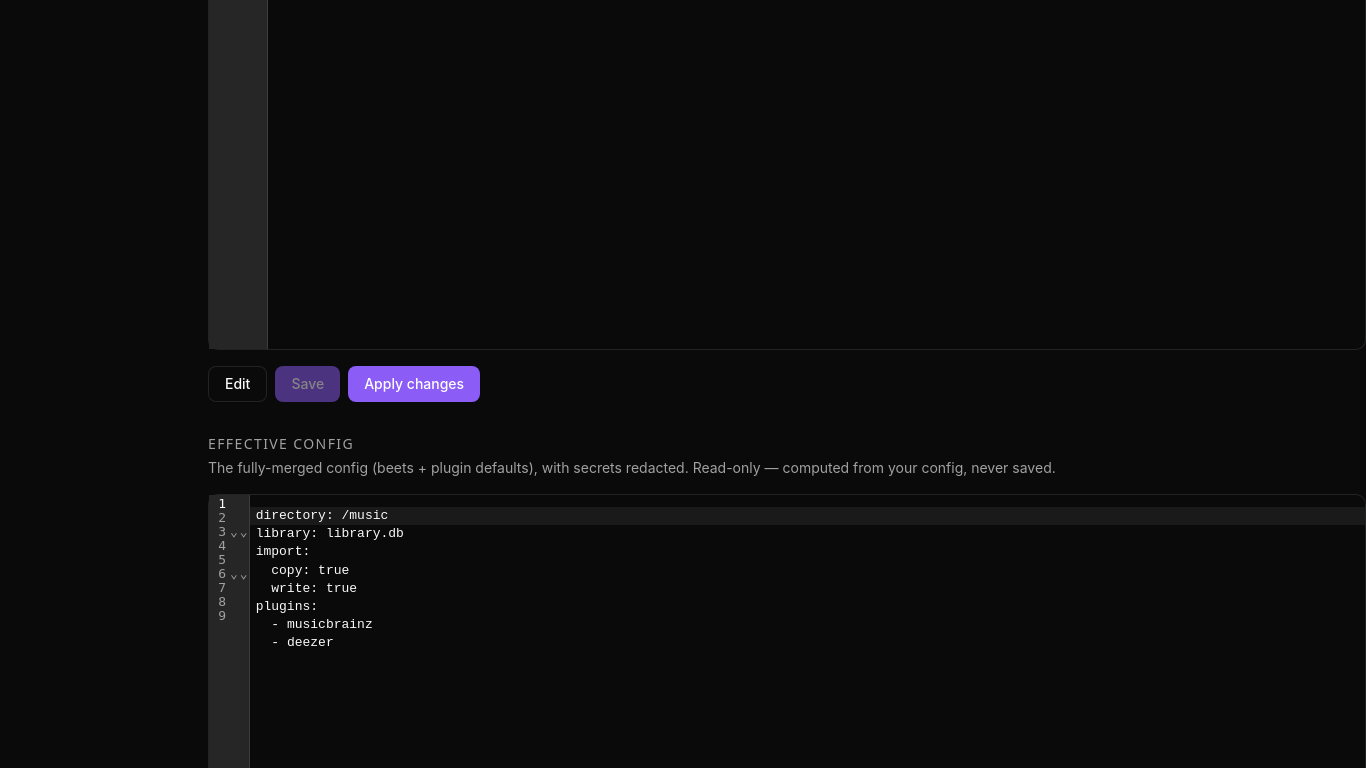
it: SettingsPage › an Apply refused for a bad Trash layout shows the reason
The image size is (1366, 768).
(page scrolled)
Click the button "Apply changes".
click(414, 384)  # box [348,366,480,402]
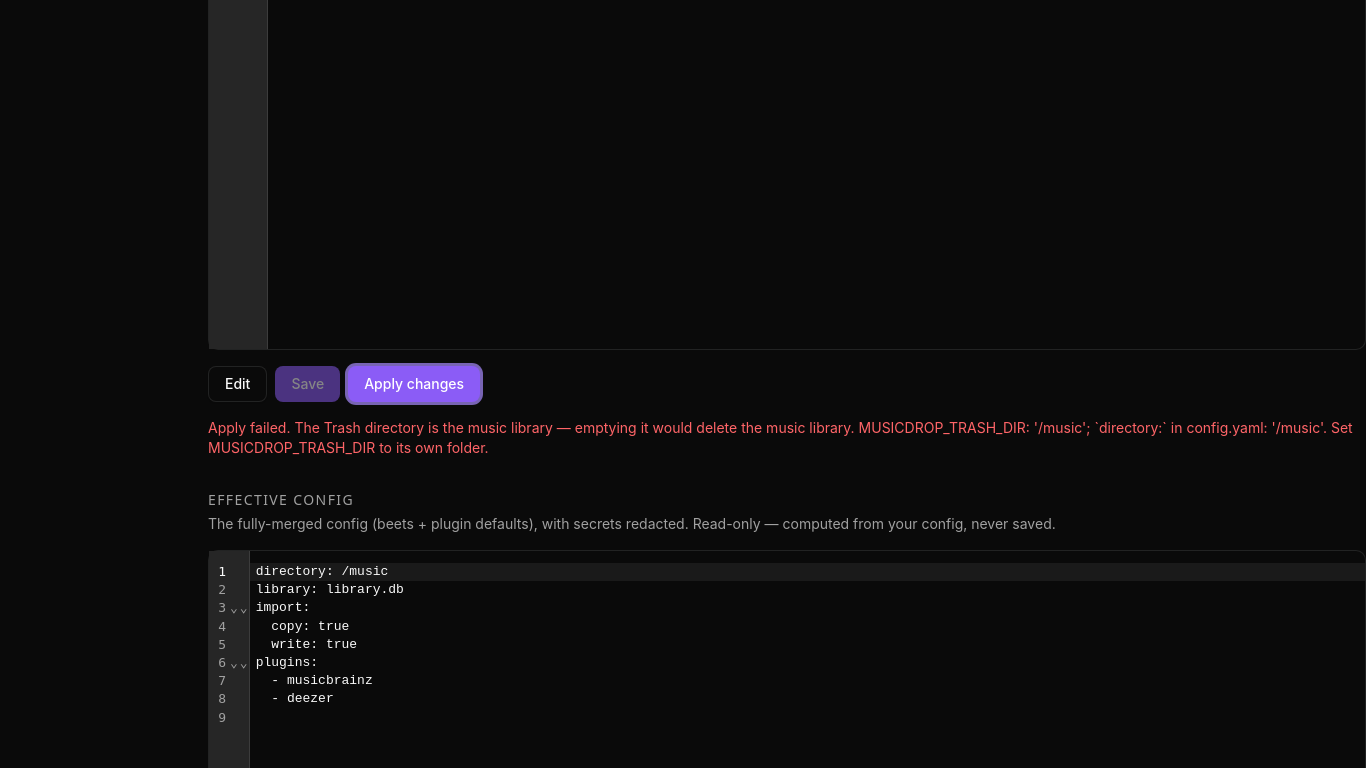
Expected: the text "Apply failed" shows "MUSICDROP_TRASH_DIR", [208,419,1353,456]
